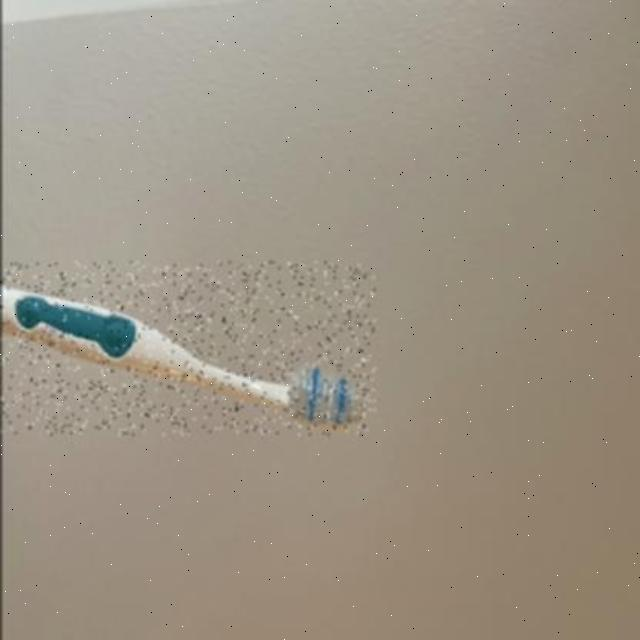toothbrush: (1, 262, 373, 434)
